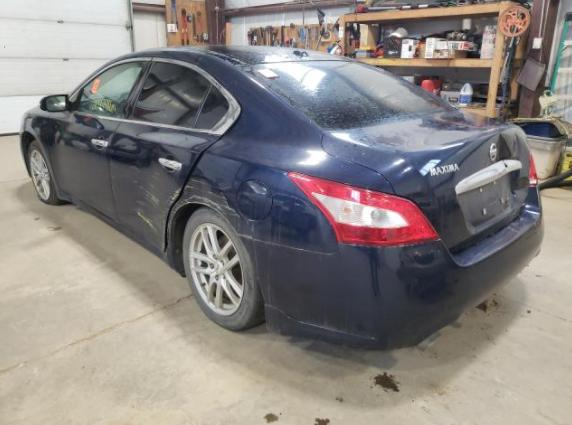Back-bumper: (237, 184, 544, 352)
Back-door: (109, 57, 242, 253)
Back-wheel: (182, 205, 265, 333)
Back-window: (133, 62, 230, 129)
Back-windshield: (246, 61, 457, 130)
Fender: (19, 109, 61, 200)
Front-door: (43, 57, 152, 224)
Front-wheel: (27, 139, 74, 206)
Front-window: (69, 61, 144, 117)
Hood: (32, 105, 51, 116)
Mirror: (39, 94, 70, 112)
Quarter-panel: (166, 115, 395, 269)
Rocker-panel: (61, 190, 169, 268)
Roof: (171, 45, 360, 66)
Tail-light: (288, 168, 442, 246), (529, 148, 539, 186)
Trunk: (321, 108, 531, 256)
